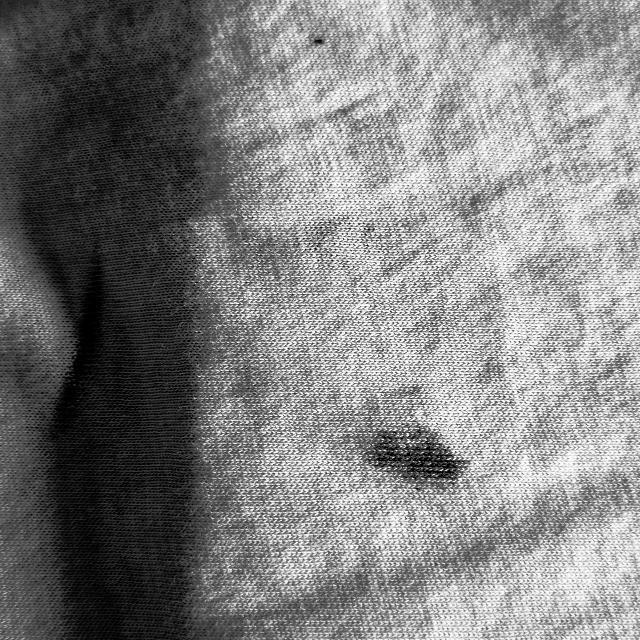Color_defect: (354, 416, 472, 498)
